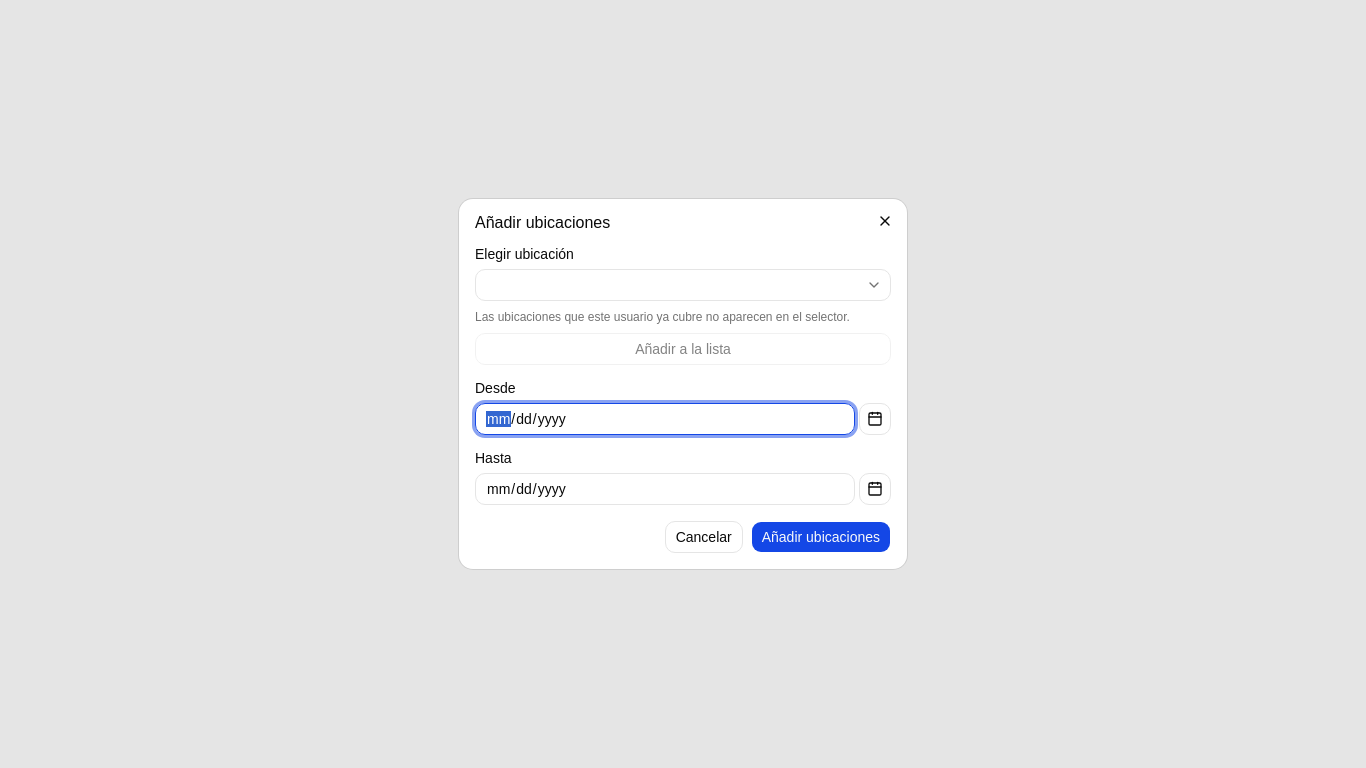
Scenario: AddGeoAssignmentsDialog — ESAVI-USERGEO-007 › una ubicación ya en la lista previa deja de ofrecerse
Click the dropdown named "Provincia" at (874, 285), box [475, 269, 891, 301]
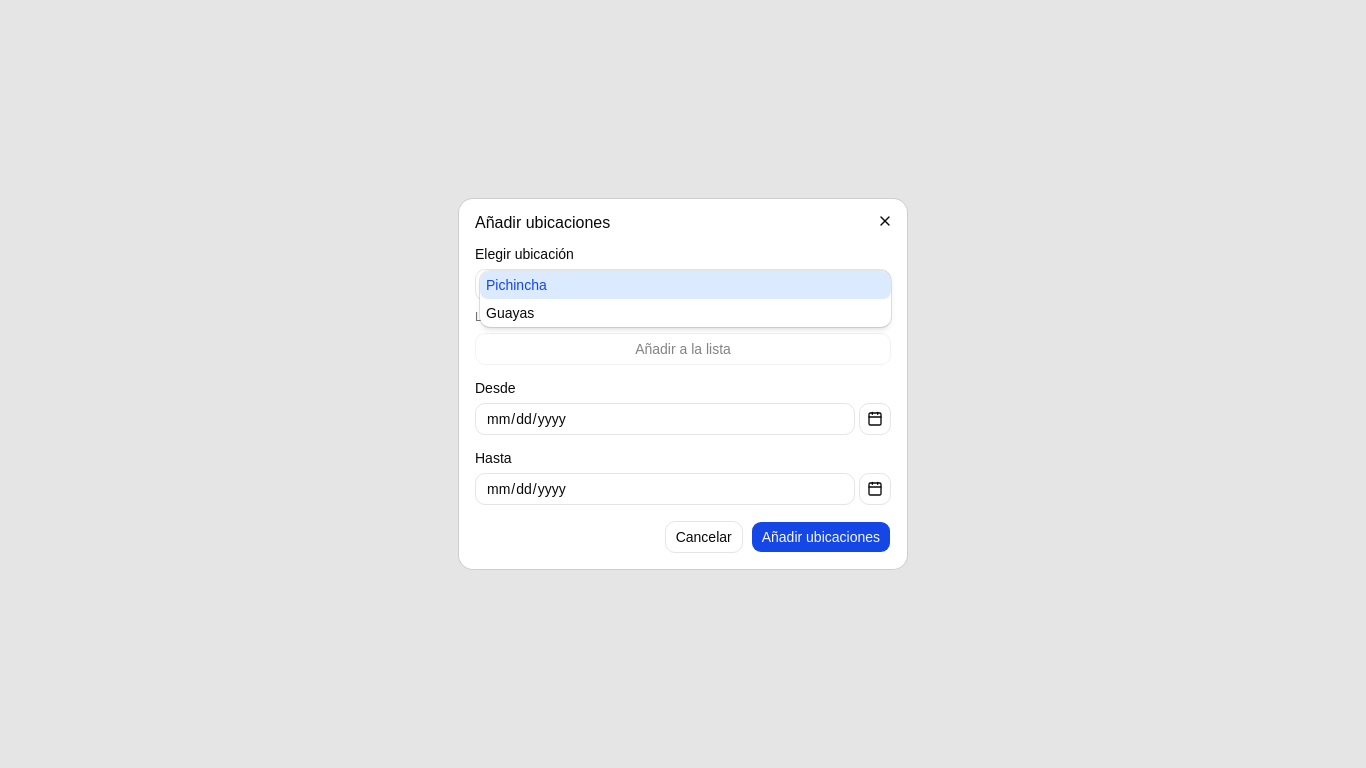
Click the option "Pichincha" at (516, 285), box [480, 271, 891, 299]
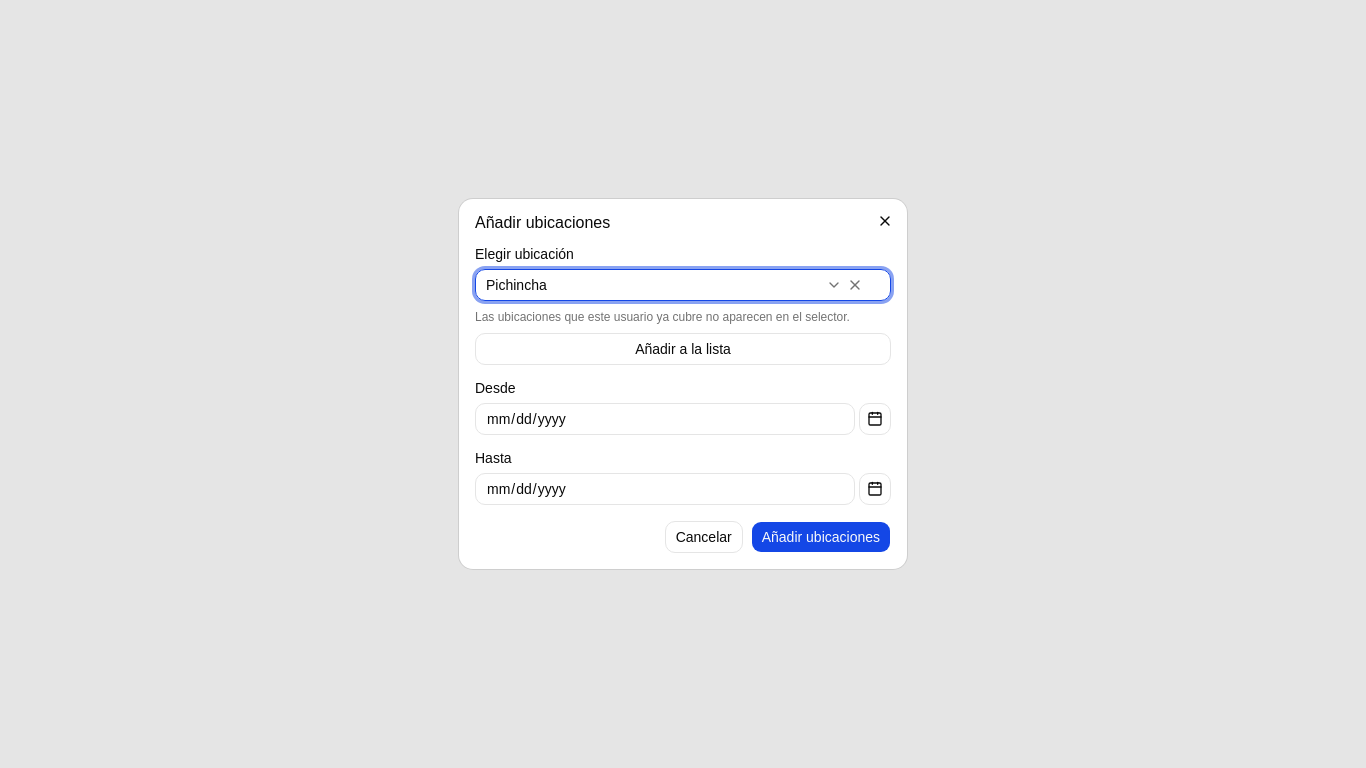
Click the button "Añadir a la lista" at (683, 349), box [475, 333, 891, 365]
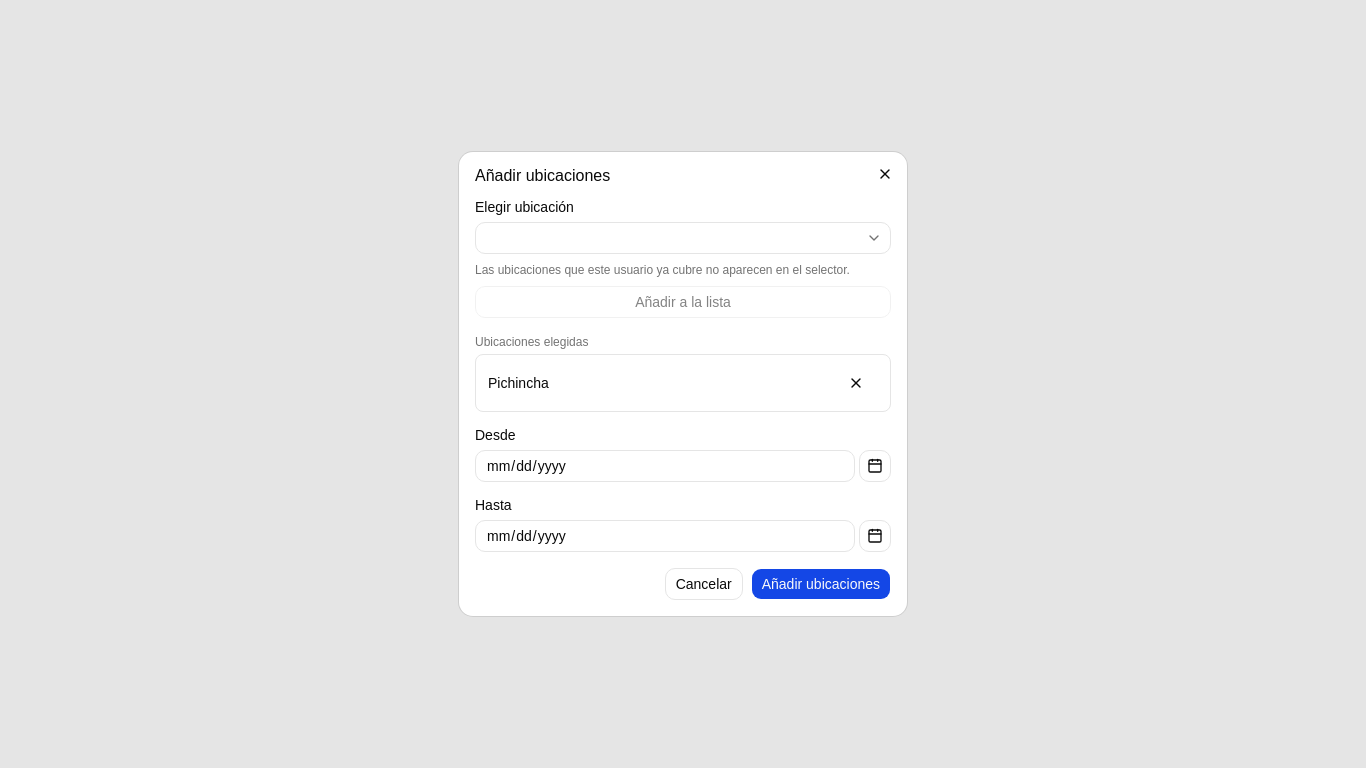
Click the dropdown named "Provincia" at (874, 238), box [475, 222, 891, 254]
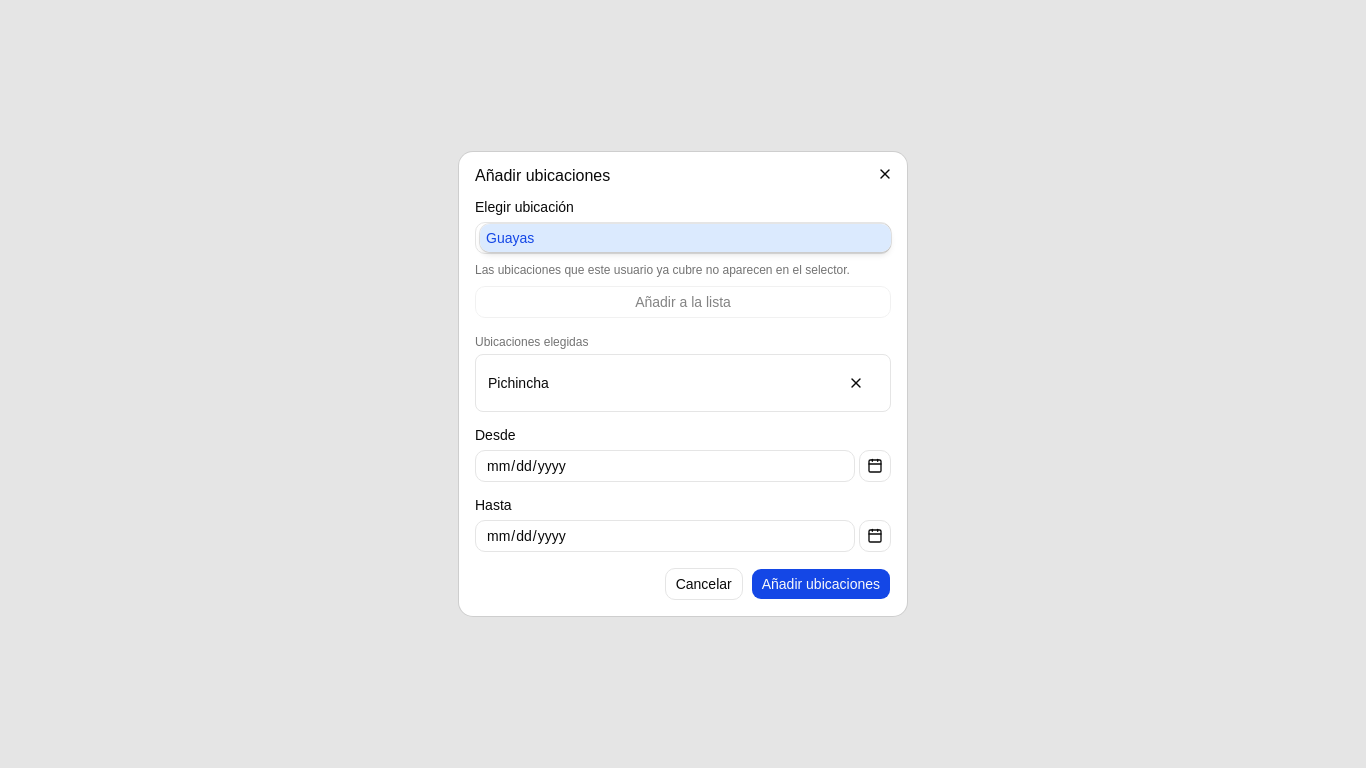
Now the option "Guayas" is shown, box [480, 224, 891, 252]
